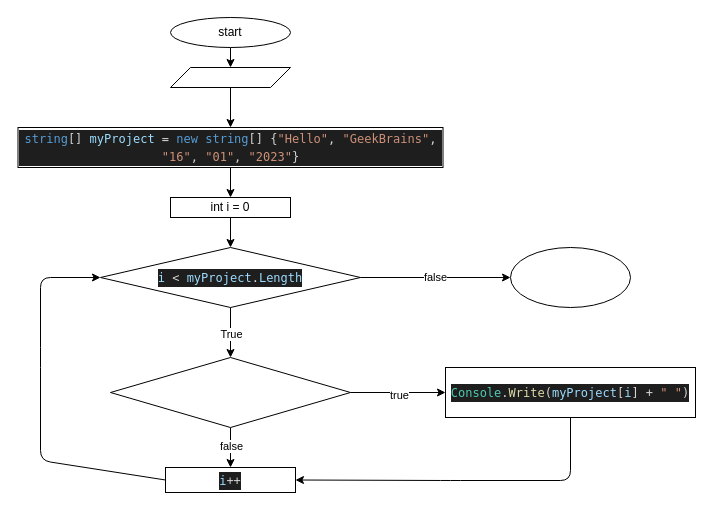
Image size: 713x510. Some labels were removed from this diagram. Each missing label, with the box of its shape:
end: (510, 246, 630, 308)
myProject [ i ]. Length <= 3: (110, 356, 350, 428)
string: (170, 66, 290, 88)
